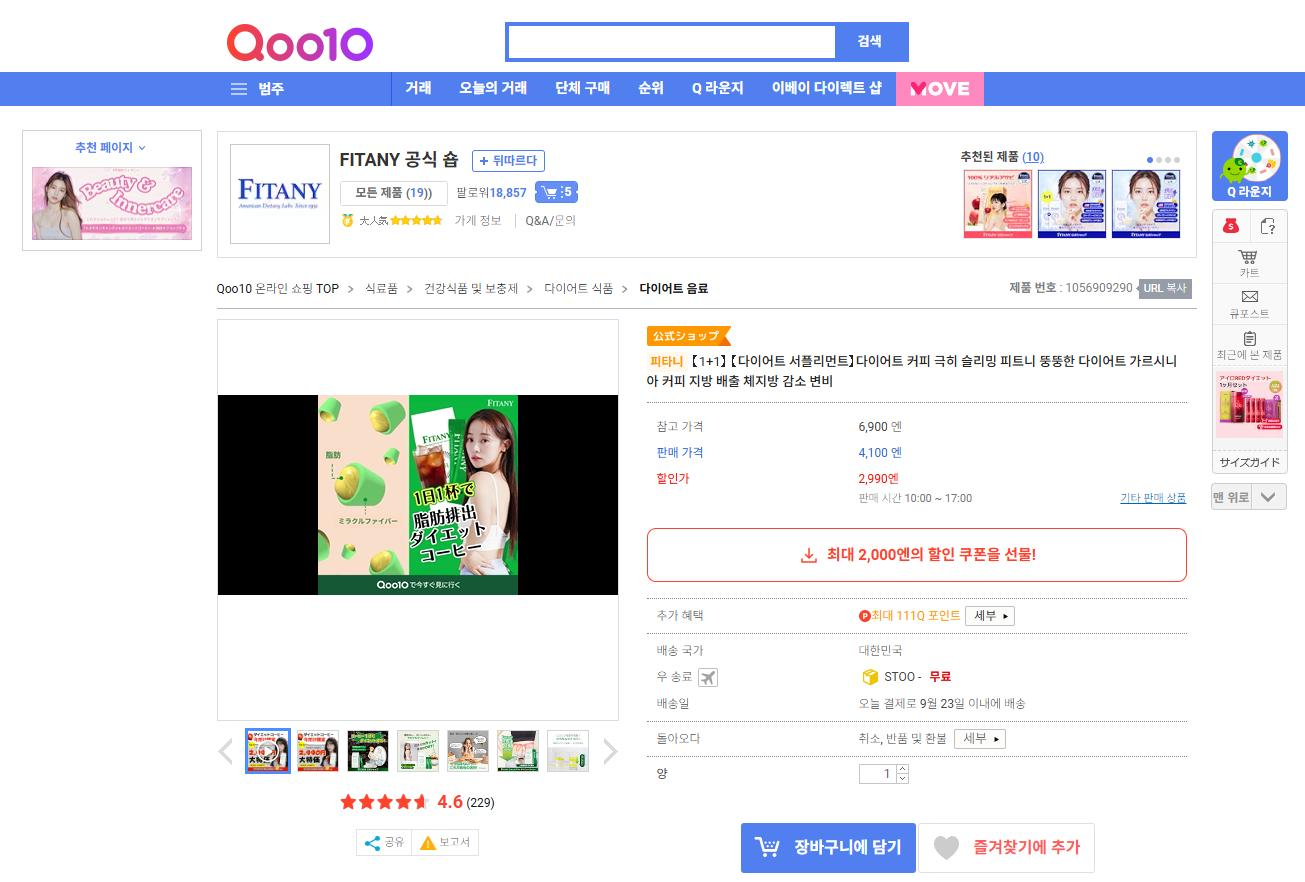button: (646, 526, 1184, 578), (733, 828, 914, 874), (919, 829, 1099, 873), (961, 167, 1034, 240), (1106, 172, 1180, 235), (763, 72, 884, 108), (1216, 133, 1285, 196), (1041, 174, 1104, 233), (1215, 244, 1295, 284), (1219, 331, 1289, 365), (1215, 293, 1282, 325), (342, 186, 453, 205), (536, 78, 618, 102), (554, 735, 598, 778), (495, 729, 535, 775), (398, 735, 444, 774), (244, 732, 285, 775), (343, 734, 391, 769), (448, 731, 488, 773), (458, 73, 521, 99), (692, 78, 758, 101), (295, 735, 337, 771), (391, 75, 448, 101), (1206, 486, 1278, 505), (476, 149, 541, 170), (361, 831, 415, 855), (532, 180, 585, 204), (635, 80, 685, 104), (856, 764, 903, 789), (1124, 493, 1186, 511), (966, 601, 1016, 623), (421, 836, 473, 856), (954, 726, 1000, 746), (1260, 214, 1285, 233), (1221, 216, 1245, 235)
input_field: (508, 16, 916, 65)
popup: (15, 136, 202, 251)
